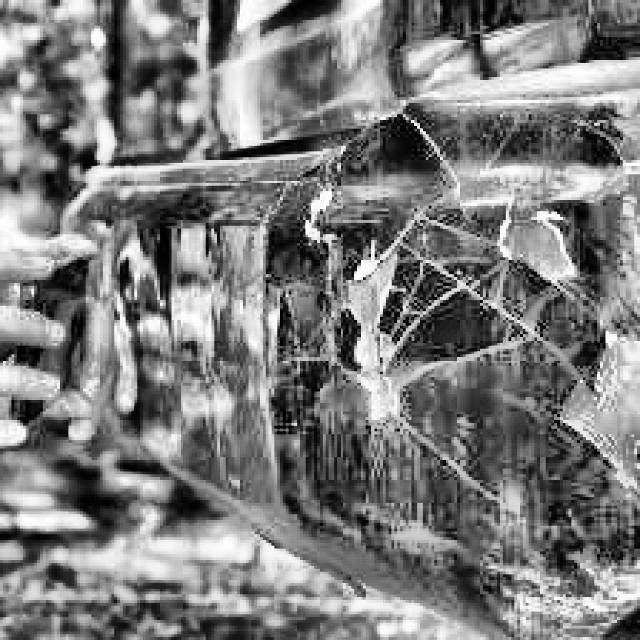bumper_dent: (313, 127, 573, 423)
